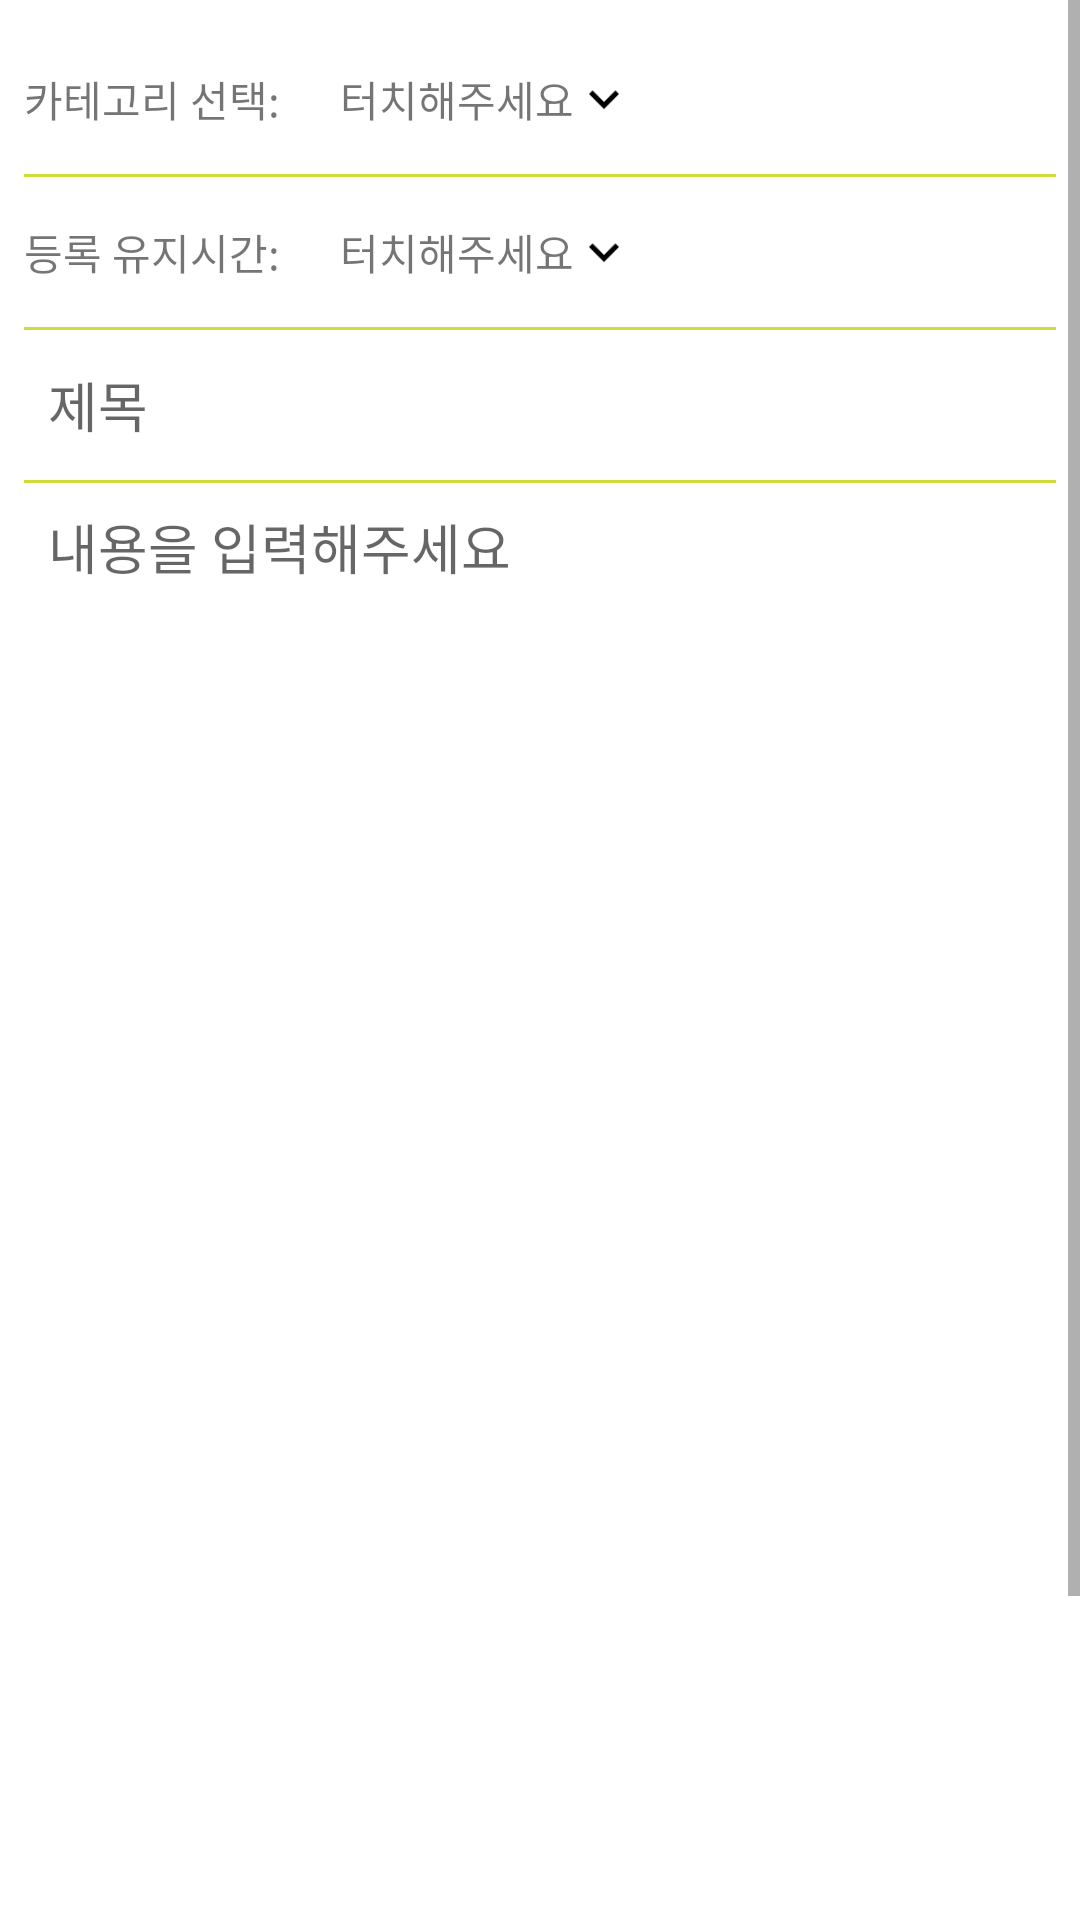

Icons on this 1080px x 1920px Android screen, each with the point to tap as (x,y):
spinnerarrow: (604,99), (604,252)
